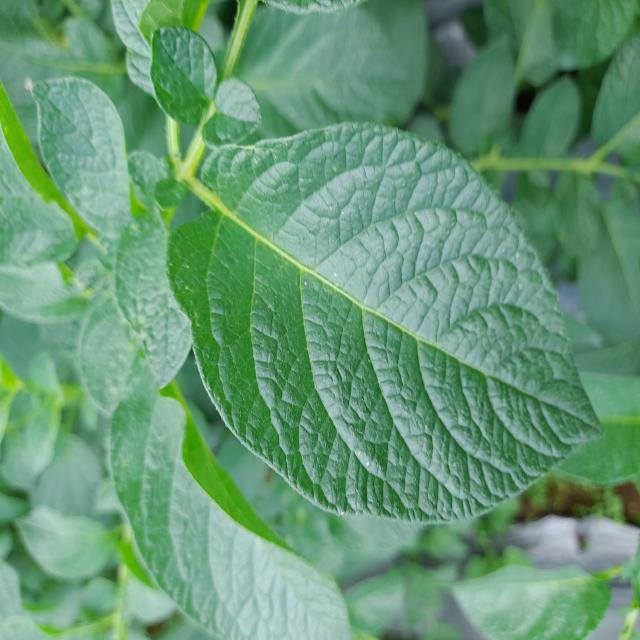healthy: (162, 119, 604, 527)
